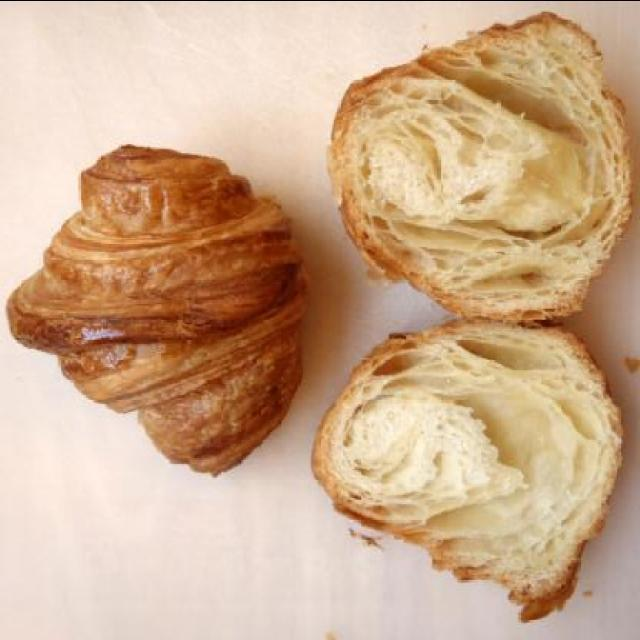Croissant: (312, 10, 632, 624), (4, 141, 313, 479)
